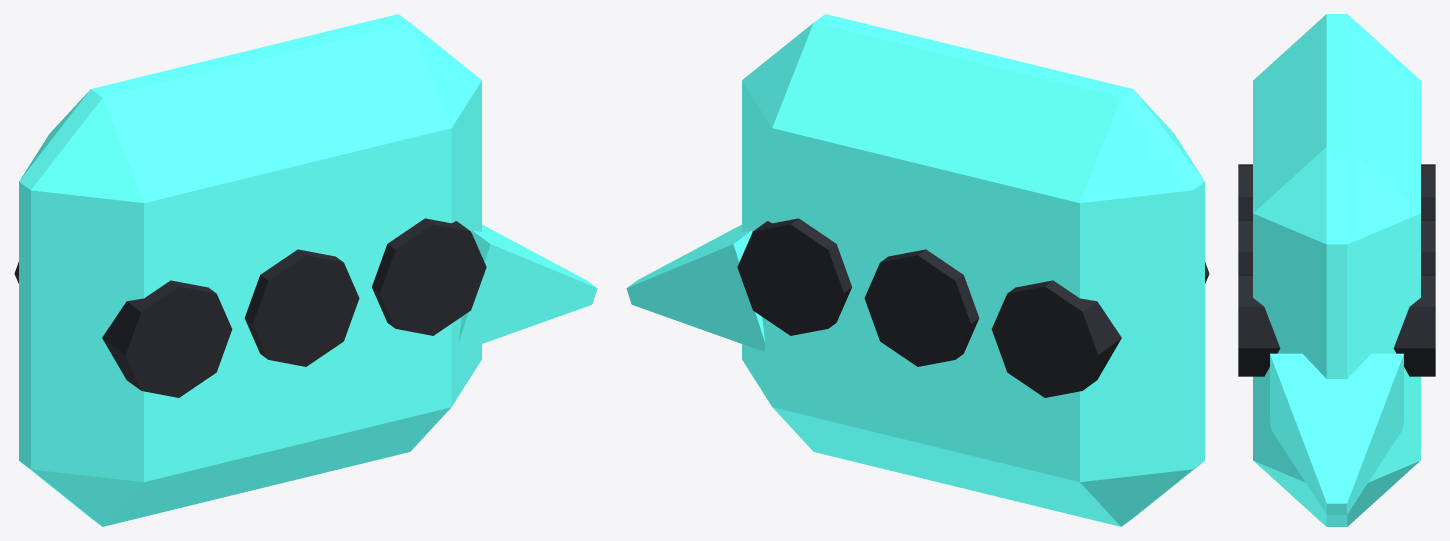
The model's file is quickreply_m0_1.glb.
The picture shows the model from 3 angles, left to right: view 1: azimuth 30°, elevation 25°; view 2: azimuth 150°, elevation 25°; view 3: azimuth 270°, elevation 25°; orthographic projection. The views are drawn at different scales.
Visible parts, largest first — view 1: quickreply_m0_1_mesh; view 2: quickreply_m0_1_mesh; view 3: quickreply_m0_1_mesh.
Part boxes in pixels (x1,y1,x2,y2): quickreply_m0_1_mesh: [14, 14, 597, 526]; quickreply_m0_1_mesh: [626, 14, 1209, 526]; quickreply_m0_1_mesh: [1238, 14, 1435, 526].
Size of the model in its own units: 0.2764 by 0.2 by 0.094.
